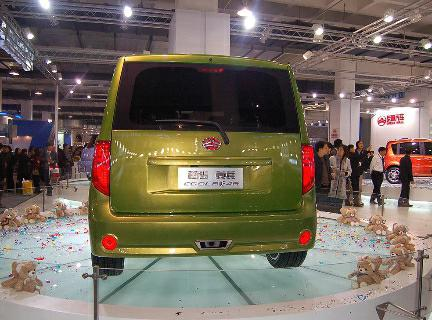长城-酷熊: (86, 50, 319, 274)
